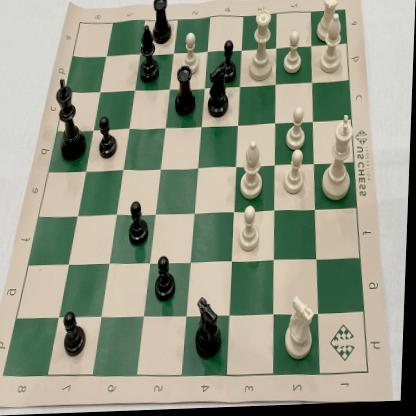black-bishop: (138, 23, 164, 87)
black-king: (52, 74, 91, 165)
black-knight: (192, 291, 227, 366), (205, 63, 232, 123)
black-pawn: (153, 251, 182, 307), (63, 308, 92, 360), (129, 199, 153, 251), (216, 40, 240, 87), (97, 113, 120, 162)
black-rook: (170, 65, 200, 119), (147, 0, 175, 49)
white-bishop: (239, 139, 268, 204), (319, 14, 347, 77)
white-king: (320, 114, 361, 207)
white-knight: (282, 293, 321, 366)
white-pawn: (237, 203, 266, 258), (283, 149, 312, 200), (280, 29, 306, 80), (178, 30, 203, 79), (286, 105, 310, 154)
white-queen: (247, 7, 279, 88)
white-rook: (313, 0, 344, 47)
